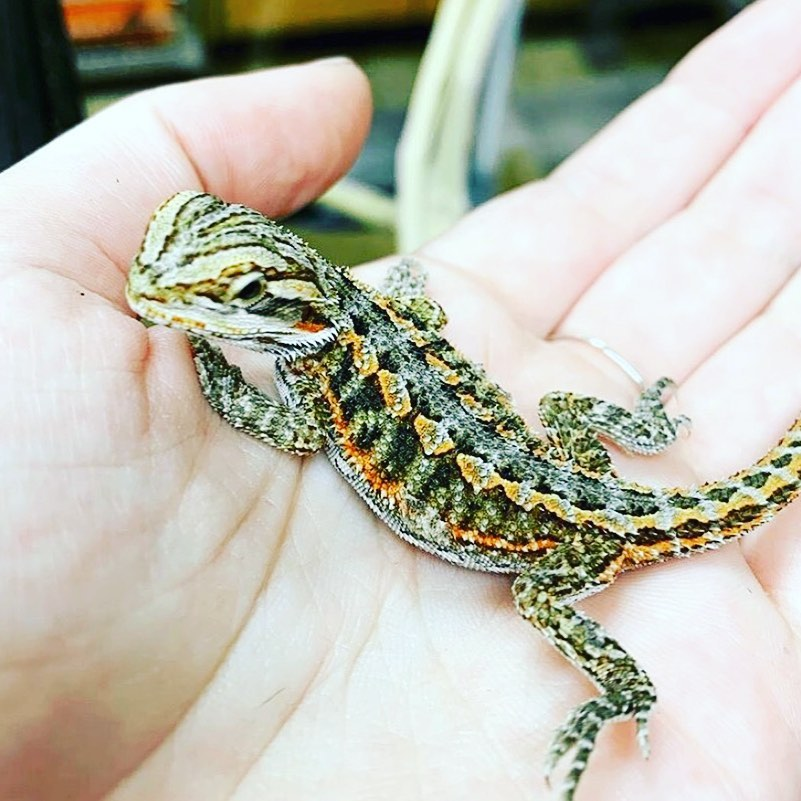bearded: (124, 188, 797, 801)
